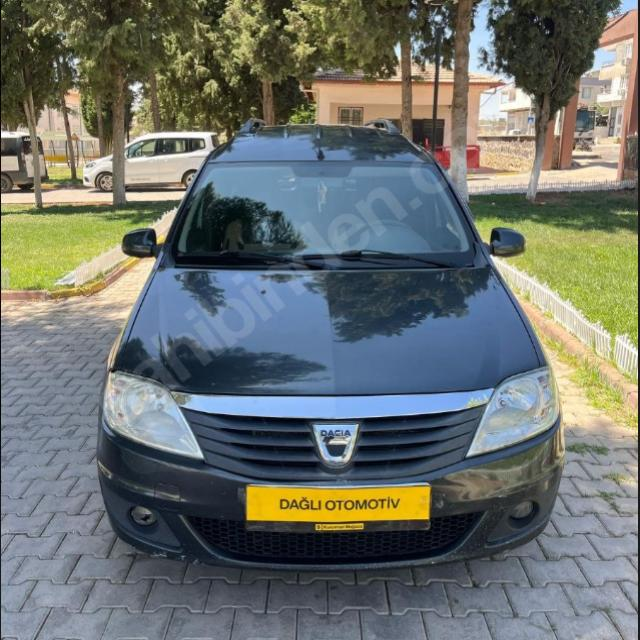dacia: (308, 419, 364, 475)
